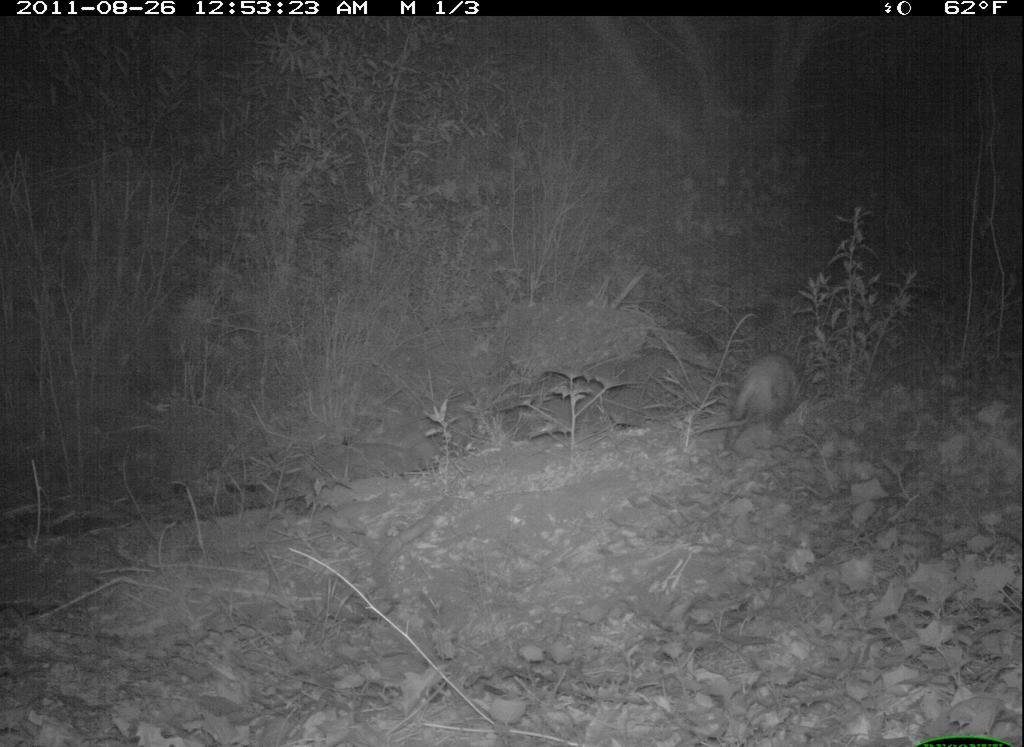opossum: (717, 345, 817, 464)
